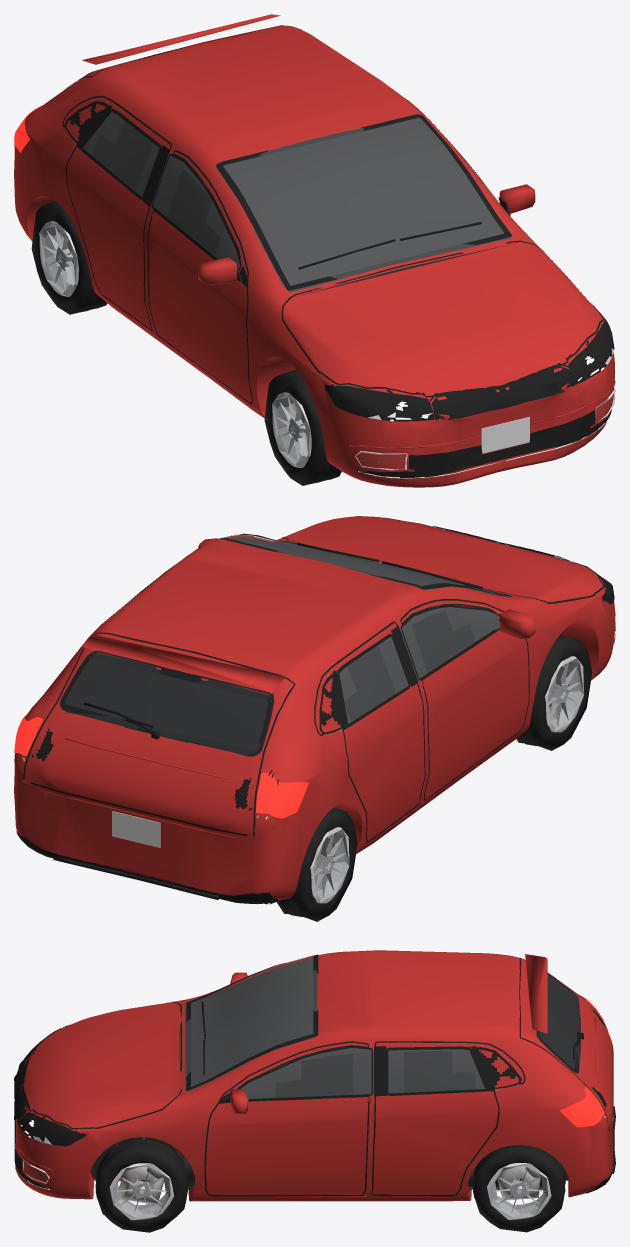
File: compactHatch-lod1.glb
3 views of the same model, one above another, from view 1: azimuth 30°, elevation 25°; view 2: azimuth 150°, elevation 25°; view 3: azimuth 270°, elevation 25° (orthographic). The views are drawn at different scales.
Parts seen in each view (by area): view 1: Body, HoodSkin, Body_Lining, Body_Trim, Panel_FR, Panel_RR, Window_FR, Window_RR, Wheel_FR_Tyre, Wheel_RR_Tyre, Panel_RR_Trim, Window_FR_Lining (+9 smaller); view 2: Body, TrunkSkin, TrunkSkin_Trim, HoodSkin, Panel_FR, Panel_RR, Body_Lining, Body_Trim, Window_FR, Spoiler, Window_RR, Wheel_FR_Tyre (+11 smaller); view 3: Body, Panel_FL, HoodSkin, Body_Lining, Panel_RL, TrunkSkin, Body_Trim, Window_FL, Wheel_FL_Tyre, Wheel_RL_Tyre, Window_RL, TrunkSkin_Trim (+12 smaller).
Part boxes in pixels (x1=…): Body: x1=14, y1=25, x2=615, y2=487; HoodSkin: x1=283, y1=242, x2=602, y2=396; Body_Lining: x1=83, y1=109, x2=512, y2=296; Body_Trim: x1=14, y1=106, x2=614, y2=479; Panel_FR: x1=149, y1=152, x2=251, y2=402; Panel_RR: x1=66, y1=97, x2=170, y2=329; Window_FR: x1=153, y1=156, x2=241, y2=267; Window_RR: x1=83, y1=112, x2=158, y2=196; Wheel_FR_Tyre: x1=264, y1=370, x2=341, y2=485; Wheel_RR_Tyre: x1=31, y1=201, x2=107, y2=314; Panel_RR_Trim: x1=62, y1=95, x2=171, y2=331; Window_FR_Lining: x1=167, y1=169, x2=220, y2=254; Body: x1=14, y1=534, x2=615, y2=900; TrunkSkin: x1=24, y1=634, x2=293, y2=834; TrunkSkin_Trim: x1=23, y1=632, x2=295, y2=836; HoodSkin: x1=284, y1=516, x2=602, y2=602; Panel_FR: x1=402, y1=600, x2=528, y2=798; Panel_RR: x1=315, y1=623, x2=422, y2=840; Body_Lining: x1=94, y1=538, x2=508, y2=723; Body_Trim: x1=14, y1=526, x2=614, y2=904; Window_FR: x1=400, y1=607, x2=499, y2=677; Spoiler: x1=82, y1=634, x2=285, y2=692; Window_RR: x1=339, y1=637, x2=407, y2=723; Wheel_FR_Tyre: x1=516, y1=634, x2=592, y2=750; Body: x1=15, y1=950, x2=613, y2=1201; Panel_FL: x1=206, y1=1043, x2=368, y2=1195; HoodSkin: x1=23, y1=1002, x2=179, y2=1127; Body_Lining: x1=179, y1=960, x2=484, y2=1101; Panel_RL: x1=372, y1=1042, x2=522, y2=1194; TrunkSkin: x1=521, y1=958, x2=613, y2=1128; Body_Trim: x1=14, y1=954, x2=613, y2=1193; Window_FL: x1=241, y1=1048, x2=371, y2=1098; Wheel_FL_Tyre: x1=95, y1=1138, x2=187, y2=1232; Wheel_RL_Tyre: x1=473, y1=1144, x2=565, y2=1232; Window_RL: x1=388, y1=1049, x2=484, y2=1092; TrunkSkin_Trim: x1=519, y1=958, x2=612, y2=1130.
Size of the model in its own units: 2.13 by 1.44 by 4.08.
